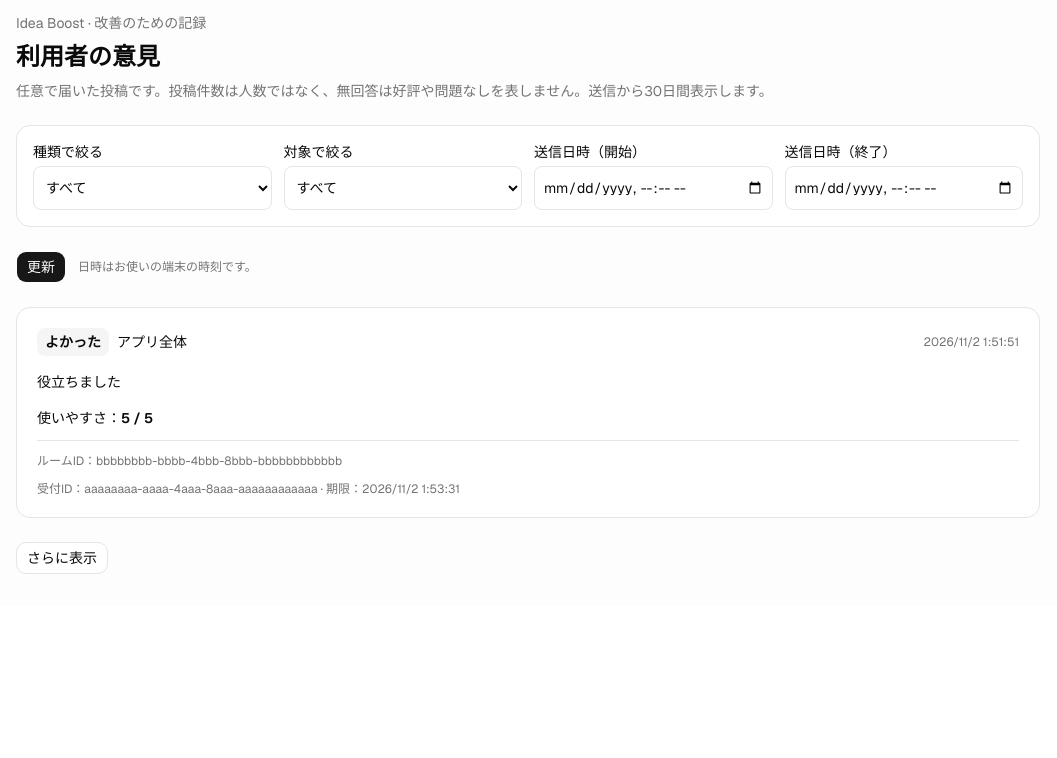
種類・対象を送信して絞り込み、追加取得し、権限取り消し後は本文を隠す
The image size is (1057, 758).
expect the text "役立ちました" is shown: met, box [37,373,121,391]
expect the text "5 / 5" is shown: met, box [121,409,153,427]
Select "よかった" in the dropdown labelled "種類で絞る": (152, 188) [33,166,272,210]
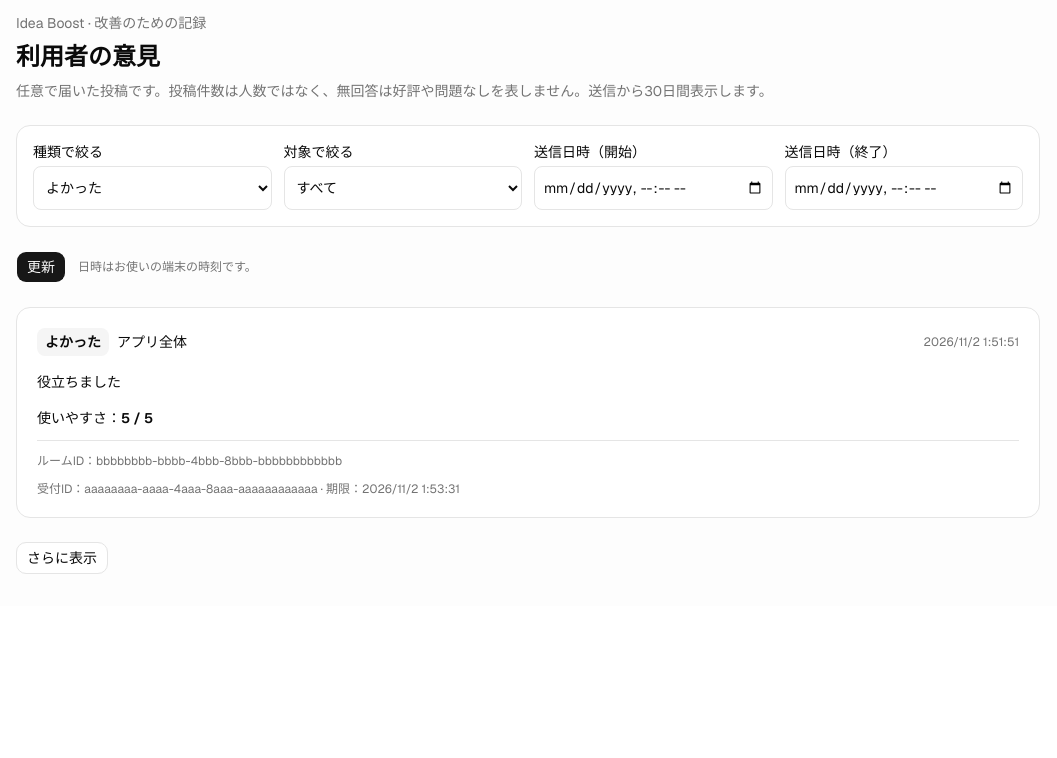
Select "アプリ全体" in the dropdown labelled "対象で絞る": (403, 188) [284,166,522,210]
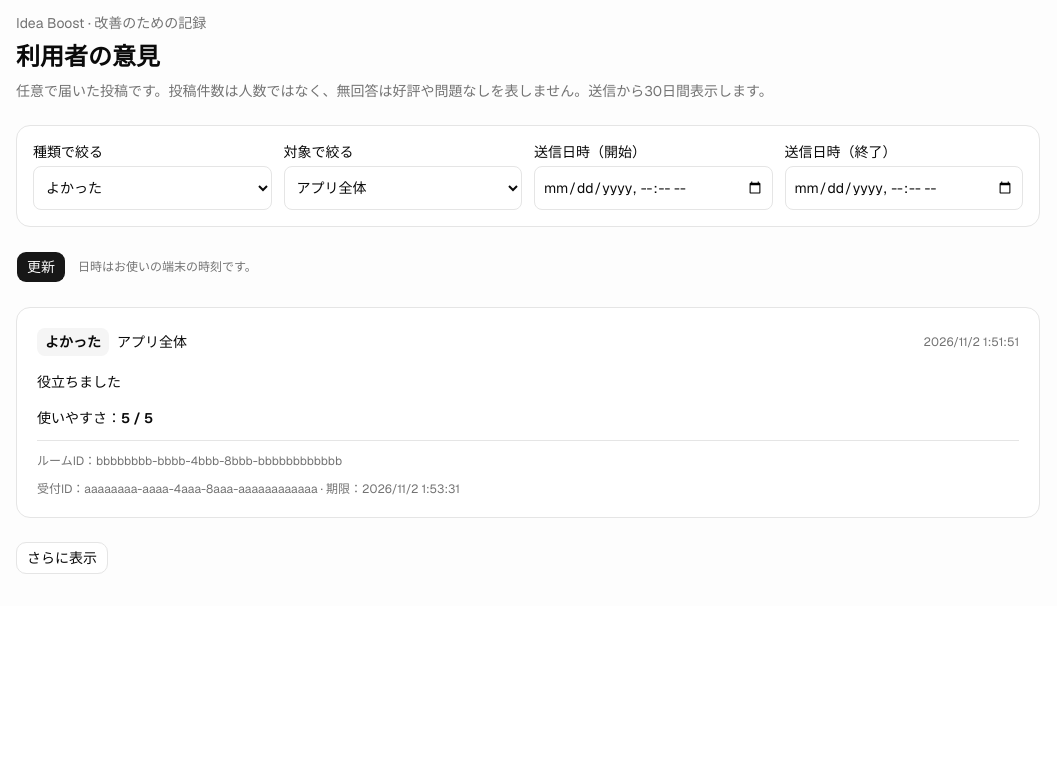
Click the button "さらに表示": (62, 558) [16,542,108,574]
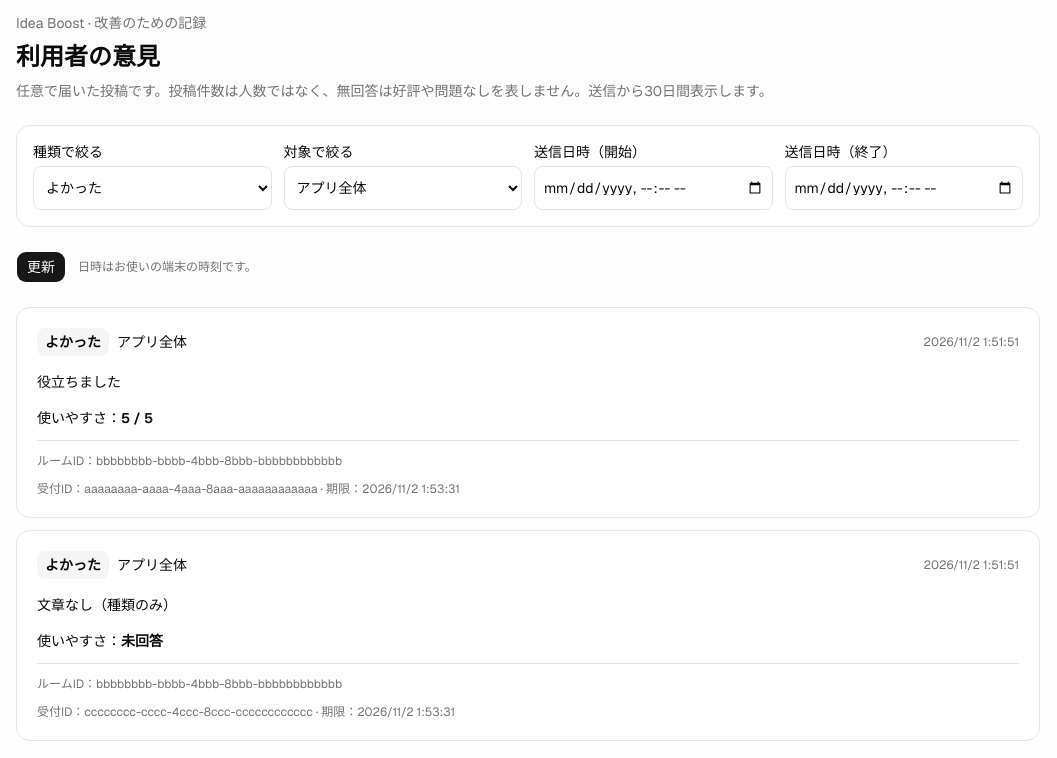
expect the text "文章なし（種類のみ）" is shown: met, box [37,596,177,614]
expect the text "未回答" is shown: met, box [121,632,163,650]
Click the button "更新": (41, 267) [16,251,66,283]
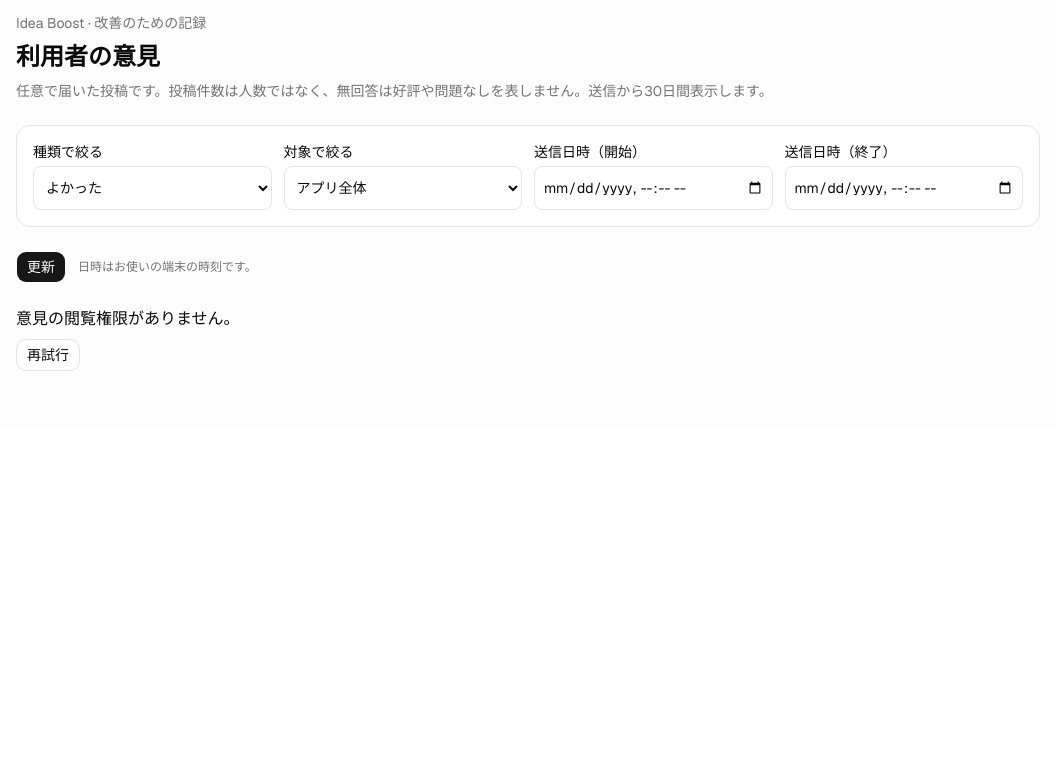
expect the message "意見の閲覧権限がありません。 再試行" is shown: met, box [16,308,240,371]
expect the text "役立ちました" is gone: met
